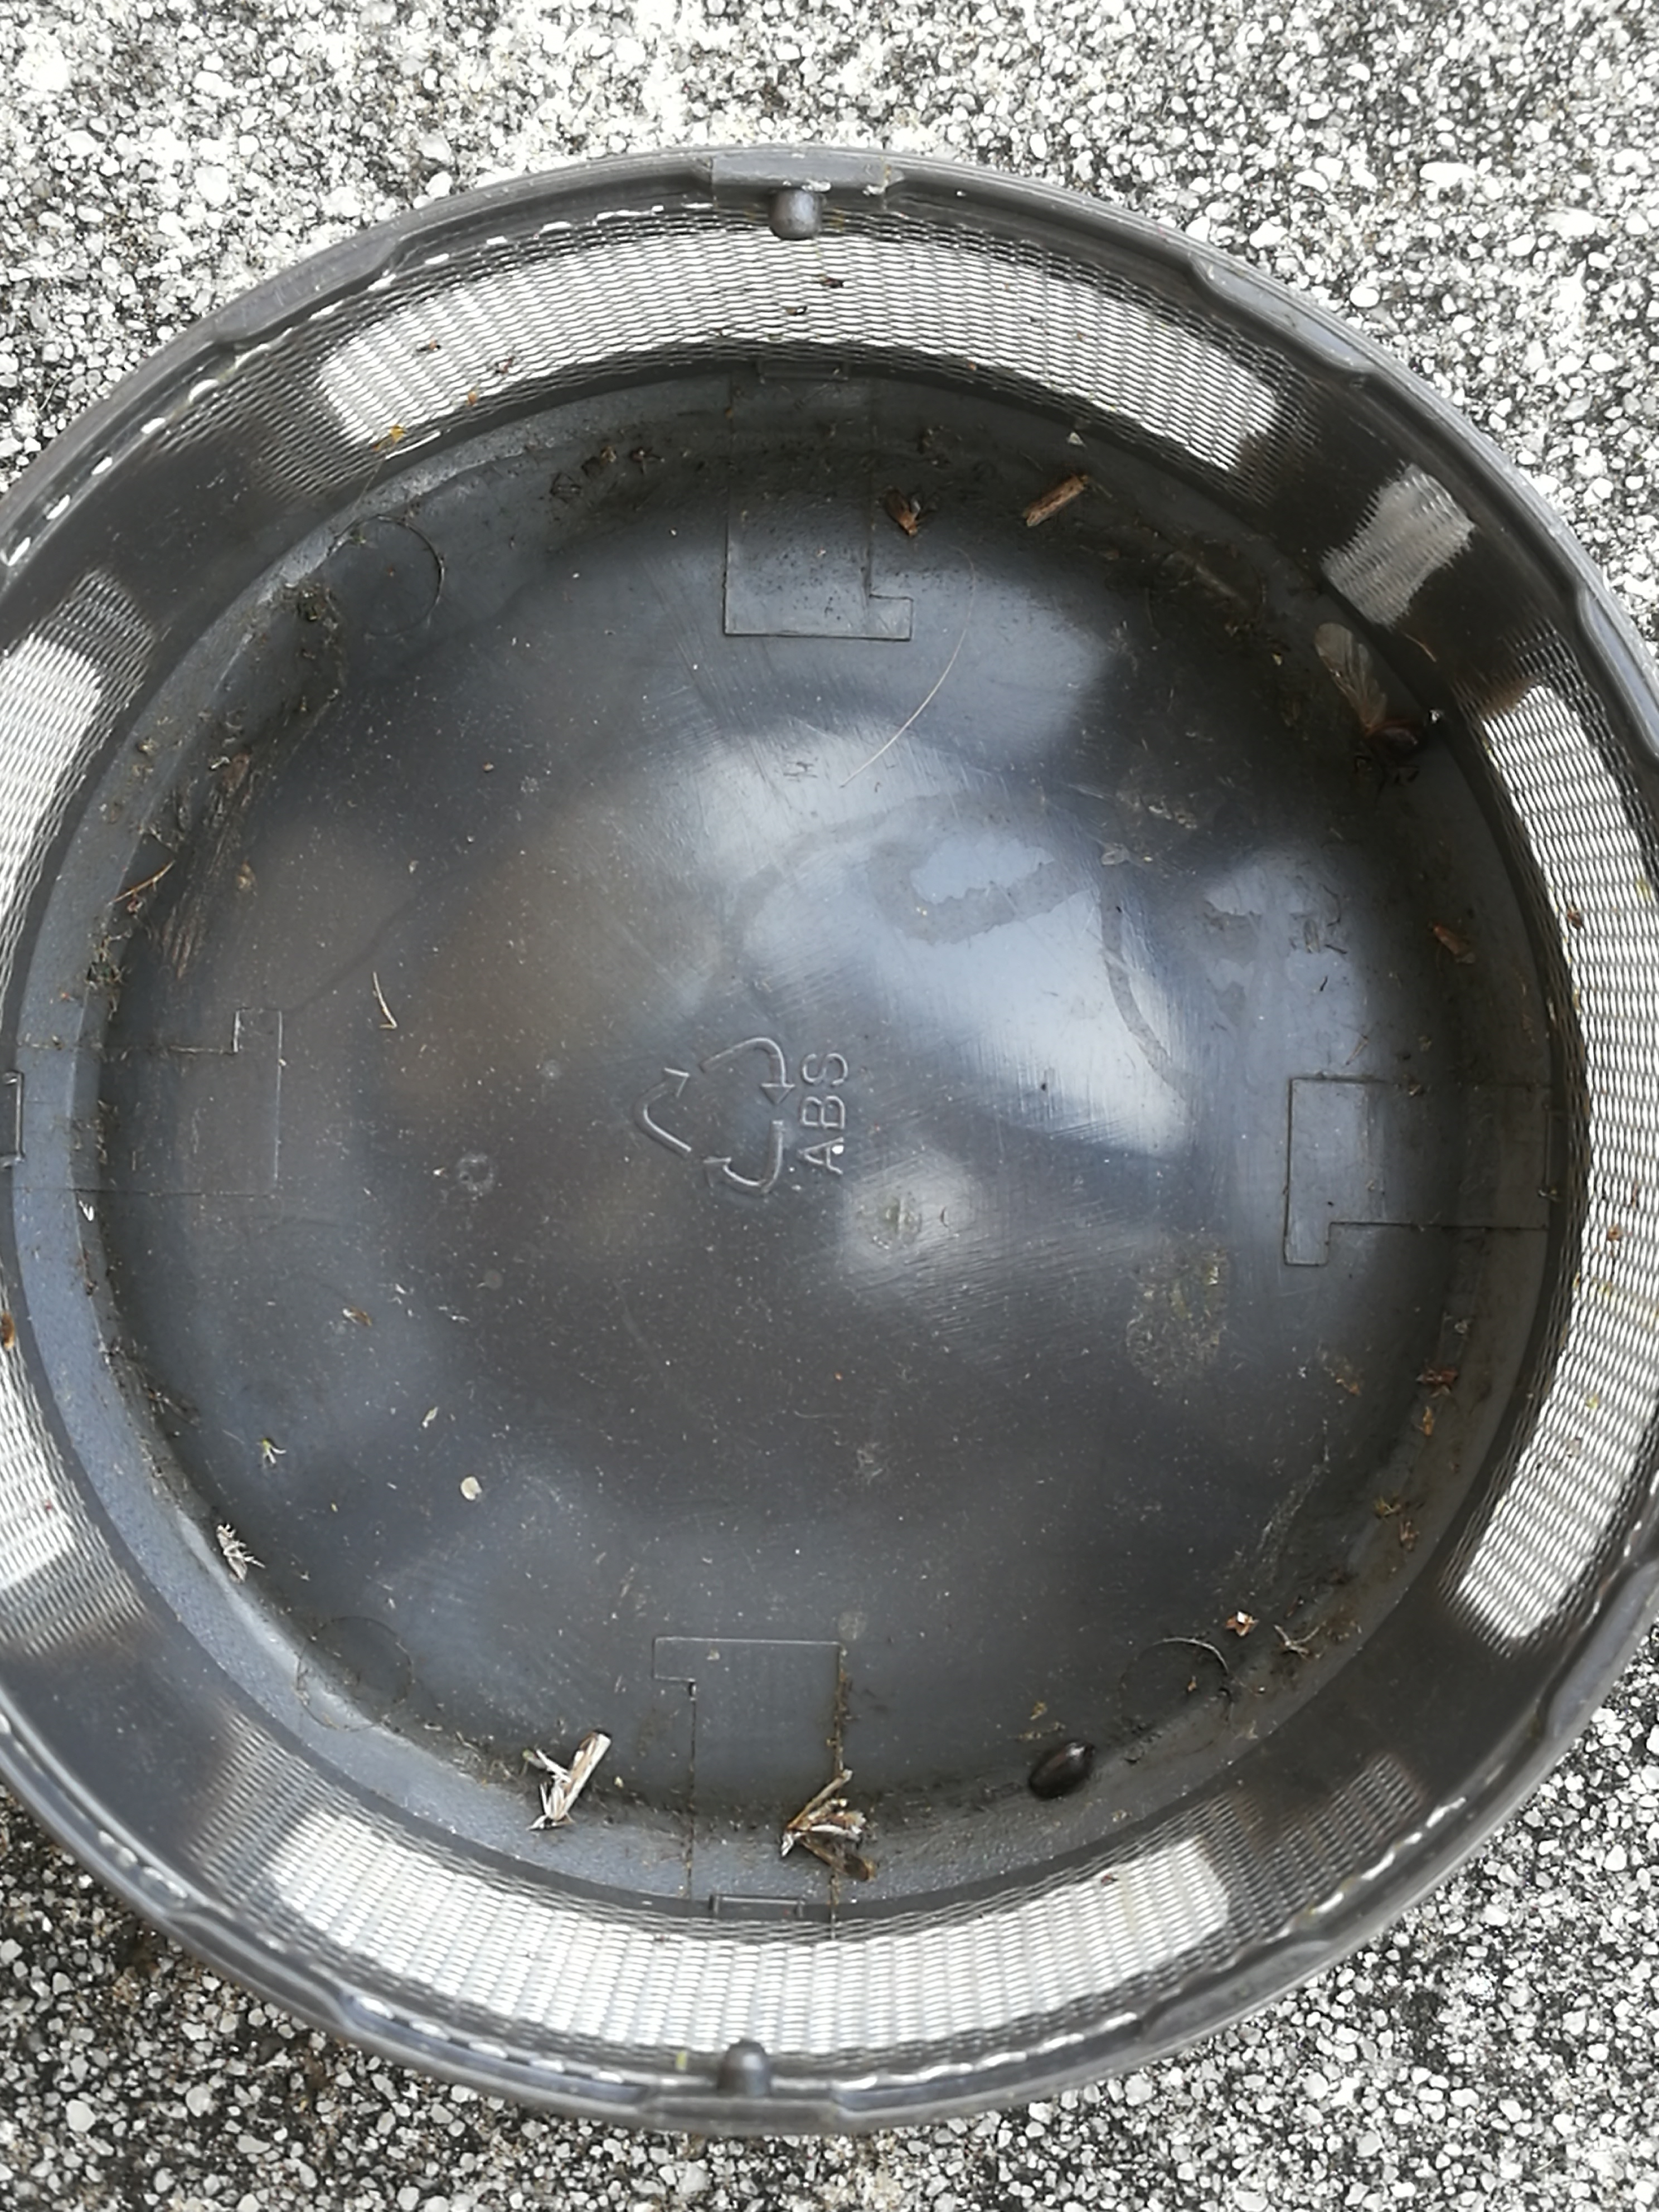beetle: (1351, 723, 1425, 789)
mosquito: (528, 1731, 610, 1832), (1023, 475, 1091, 528), (214, 1526, 246, 1580)
moth: (782, 1768, 864, 1874), (885, 491, 939, 536)
